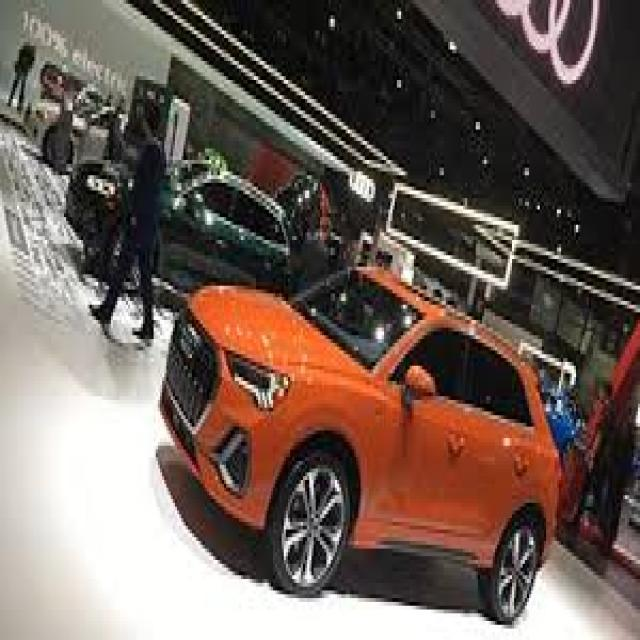SUV: (153, 262, 582, 595)
